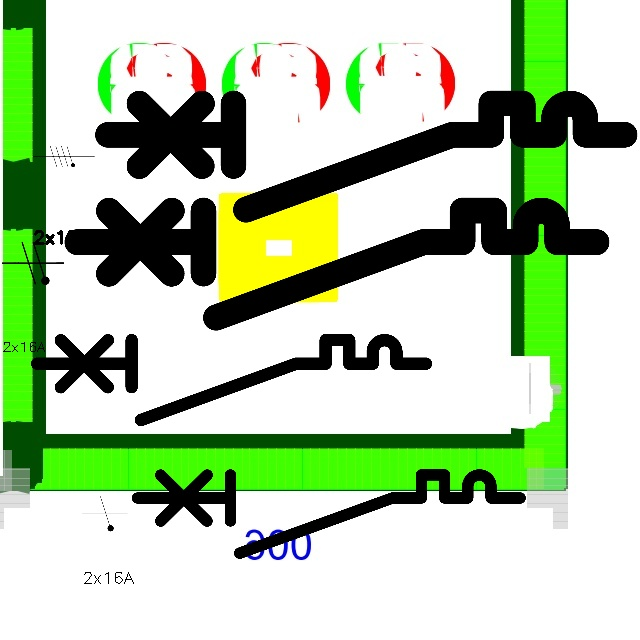interruptor_termomagnetico: (63, 197, 609, 330), (94, 90, 637, 223), (27, 330, 436, 430), (127, 465, 530, 563)
